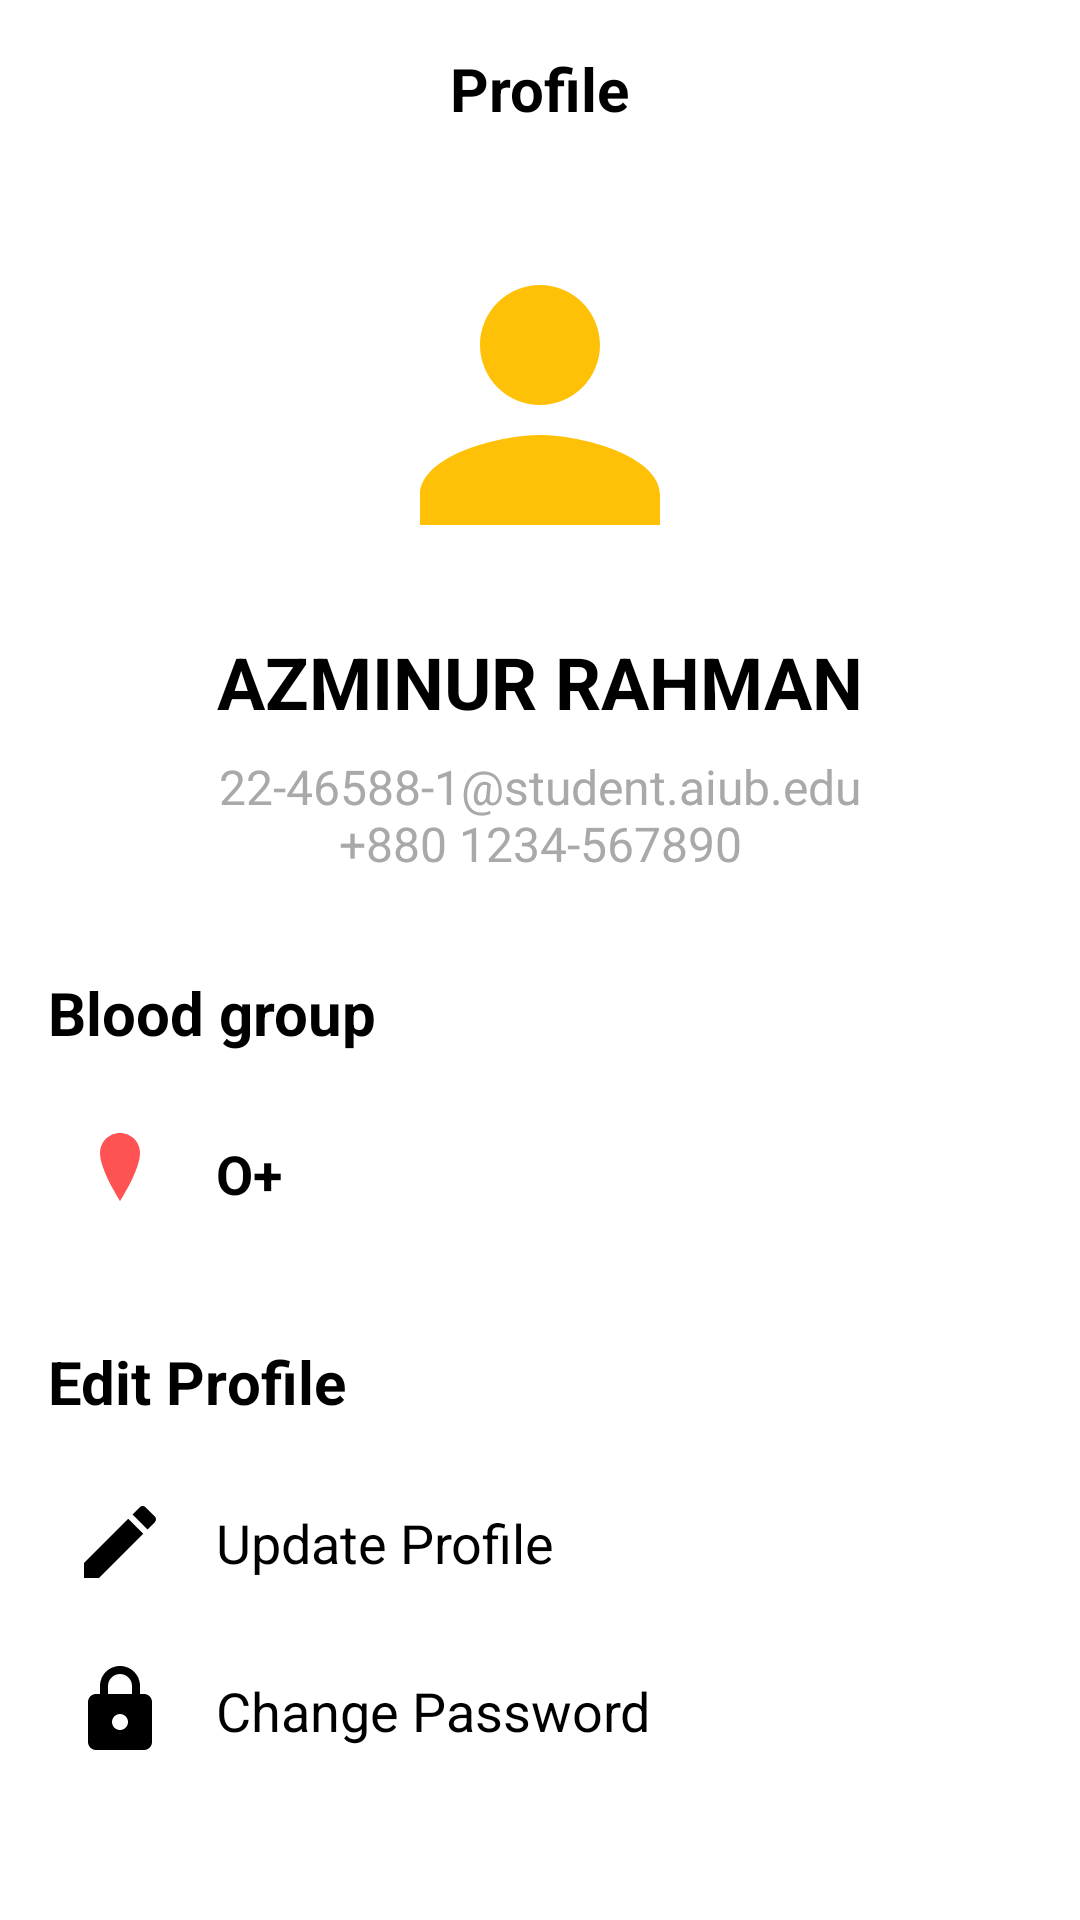

Locate icon controls on the screen. Image size 1080*1920, boxes as (x1, y1, x2, y2).
request blood: (100, 1133, 140, 1201)
